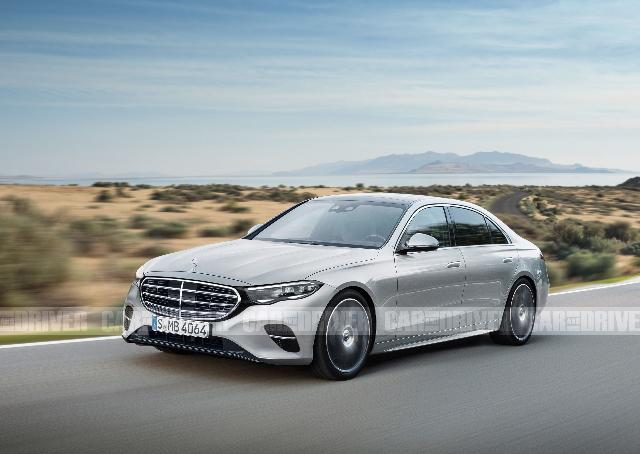benz: (121, 192, 549, 380)
